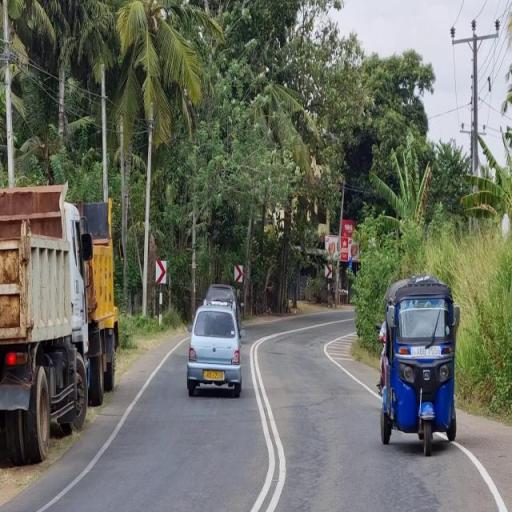double_white_line: (246, 330, 290, 512)
